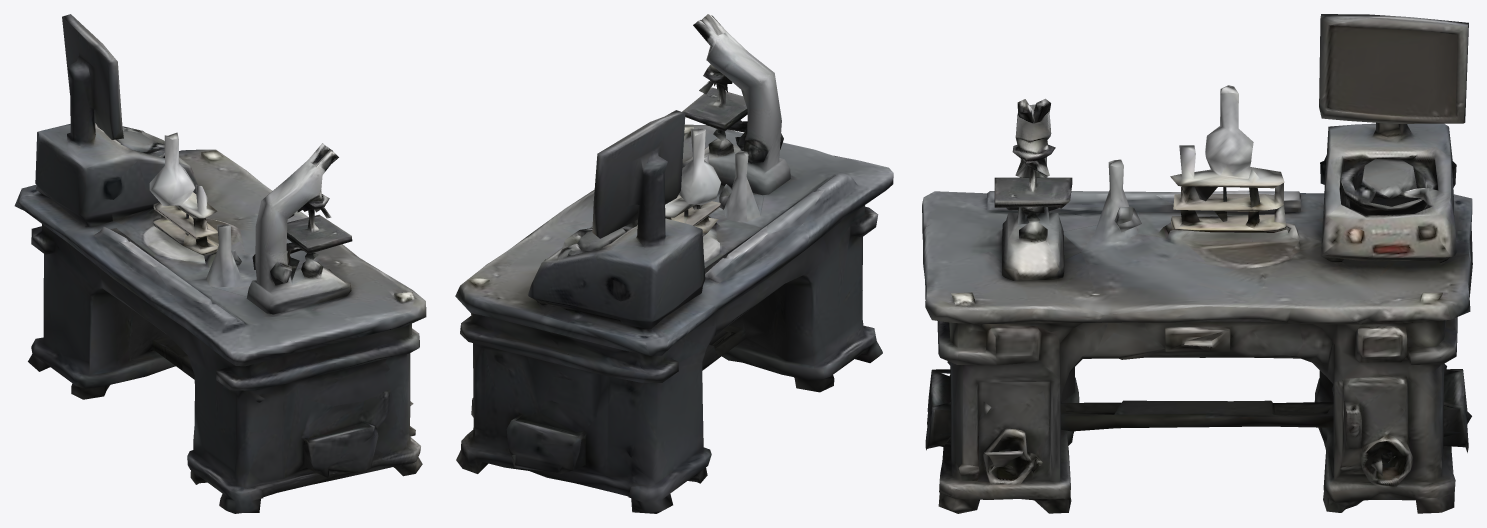
The model's file is xd_labtable.glb.
The picture shows the model from 3 angles, left to right: view 1: azimuth 30°, elevation 25°; view 2: azimuth 150°, elevation 25°; view 3: azimuth 270°, elevation 25°; orthographic projection. The views are drawn at different scales.
Visible parts, largest first — view 1: tripo_node_d654141f-f1d3-46ea-872e-7d3356ca7efb; view 2: tripo_node_d654141f-f1d3-46ea-872e-7d3356ca7efb; view 3: tripo_node_d654141f-f1d3-46ea-872e-7d3356ca7efb.
Boxes of the visible parts, x1=… form: tripo_node_d654141f-f1d3-46ea-872e-7d3356ca7efb: x1=14, y1=14, x2=426, y2=513; tripo_node_d654141f-f1d3-46ea-872e-7d3356ca7efb: x1=455, y1=14, x2=893, y2=513; tripo_node_d654141f-f1d3-46ea-872e-7d3356ca7efb: x1=922, y1=14, x2=1472, y2=513.
Size of the model in its own units: 0.5268 by 0.8189 by 1.
Materials: 1 (1 with a texture image).
